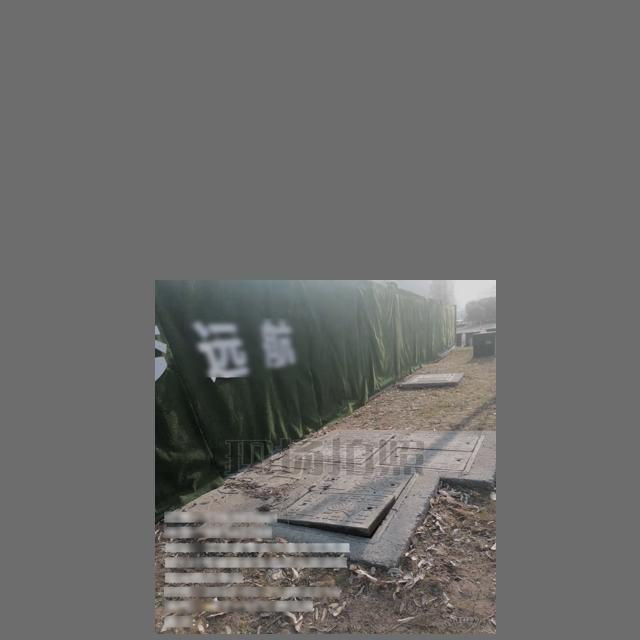good: (376, 431, 485, 471), (294, 431, 397, 464), (411, 373, 456, 382)
uncovered: (265, 469, 419, 545)
